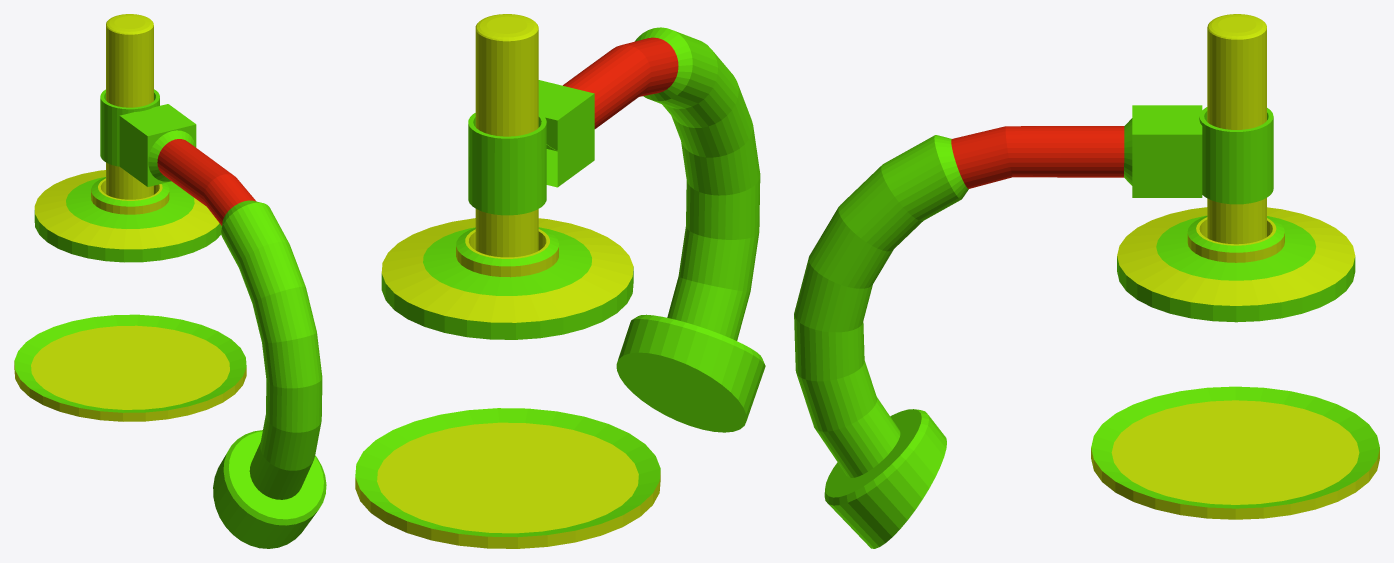
Rendered from kapaklay¦-c¦-.fbx.
3 views of the same model, side by side, from view 1: azimuth 30°, elevation 25°; view 2: azimuth 150°, elevation 25°; view 3: azimuth 270°, elevation 25° (orthographic). The views are drawn at different scales.
Visible parts, largest first — view 1: Circle.001, Circle.004, Circle.002; view 2: Circle.001, Circle.004, Circle.002; view 3: Circle.001, Circle.004, Circle.002.
Boxes of the visible parts, x1,y1,x2,y2 form: Circle.001: (100, 89, 326, 548); Circle.004: (14, 314, 246, 421); Circle.002: (34, 14, 221, 262); Circle.001: (468, 27, 765, 432); Circle.004: (355, 408, 660, 548); Circle.002: (381, 14, 633, 339); Circle.001: (794, 105, 1273, 548); Circle.004: (1091, 386, 1379, 519); Circle.002: (1117, 14, 1355, 322).
Bounding box in the file's own units: 828 × 1634 × 1680.
